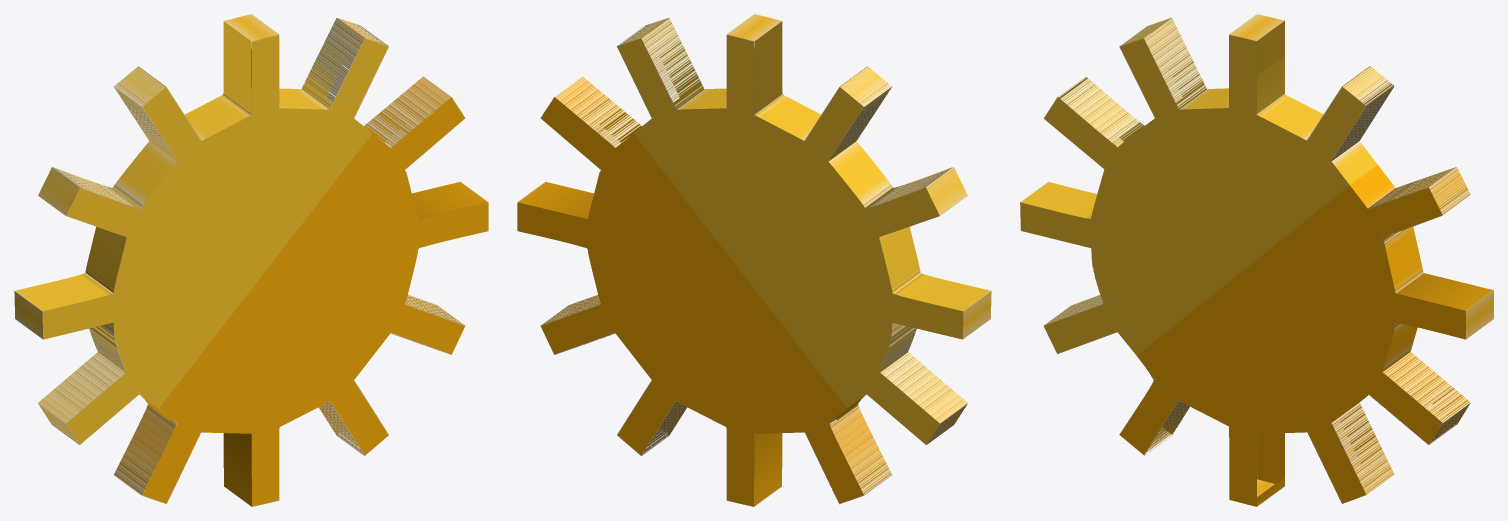
The model's file is sun.FBX.
3 views of the same model, side by side, from view 1: azimuth 30°, elevation 25°; view 2: azimuth 150°, elevation 25°; view 3: azimuth 330°, elevation 25° (orthographic).
Parts seen in each view (by area): view 1: Line001; view 2: Line001; view 3: Line001.
Part boxes in pixels (x1,y1,x2,y2): Line001: (14, 14, 488, 506); Line001: (517, 14, 991, 506); Line001: (1020, 14, 1493, 506).
Size of the model in its own units: 39.41 by 39.35 by 4.29.
1 material, 1 textured.
